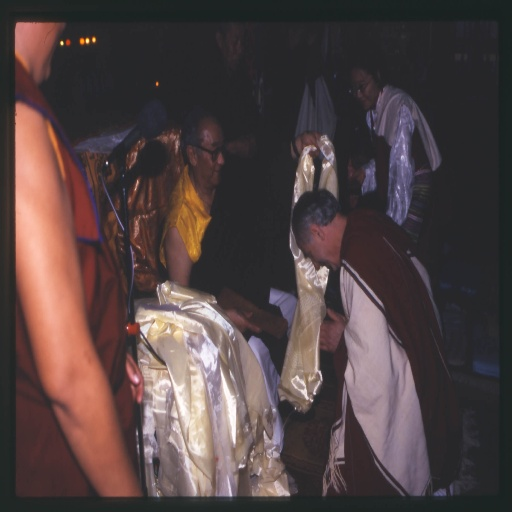hand: (318, 306, 346, 354), (125, 350, 145, 406), (225, 306, 260, 333), (299, 130, 323, 156), (236, 137, 255, 161), (345, 158, 355, 179), (349, 193, 361, 209)
